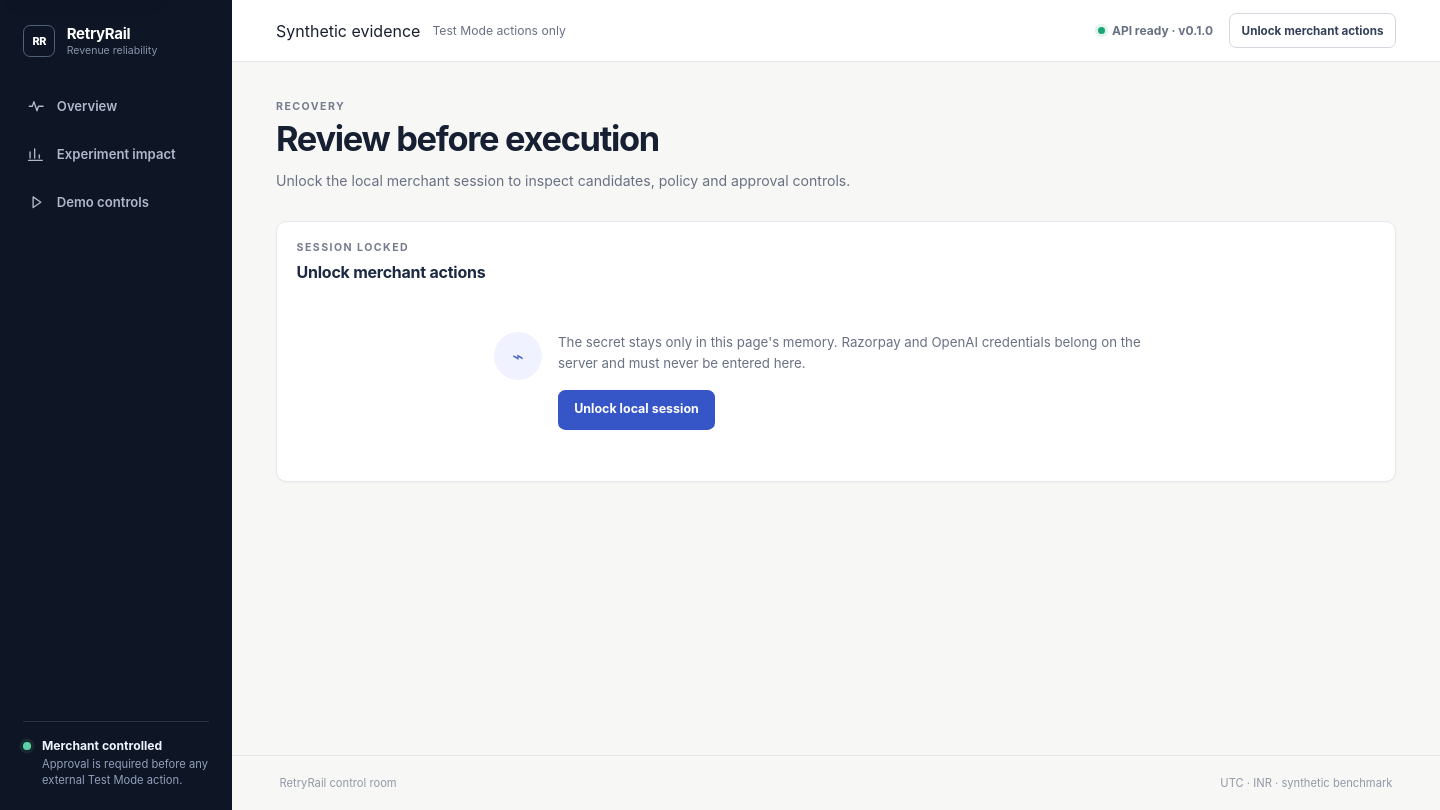
M7 merchant workflow › fails closed when authoritative policy denies a Razorpay Test Mode preview
The width and height of the screenshot is (1440, 810).
Check: the heading "Unlock merchant actions" is shown, box x1=296 y1=262 x2=486 y2=282
Click the button "Unlock merchant actions" at (1313, 30), box x1=1229 y1=13 x2=1396 y2=48
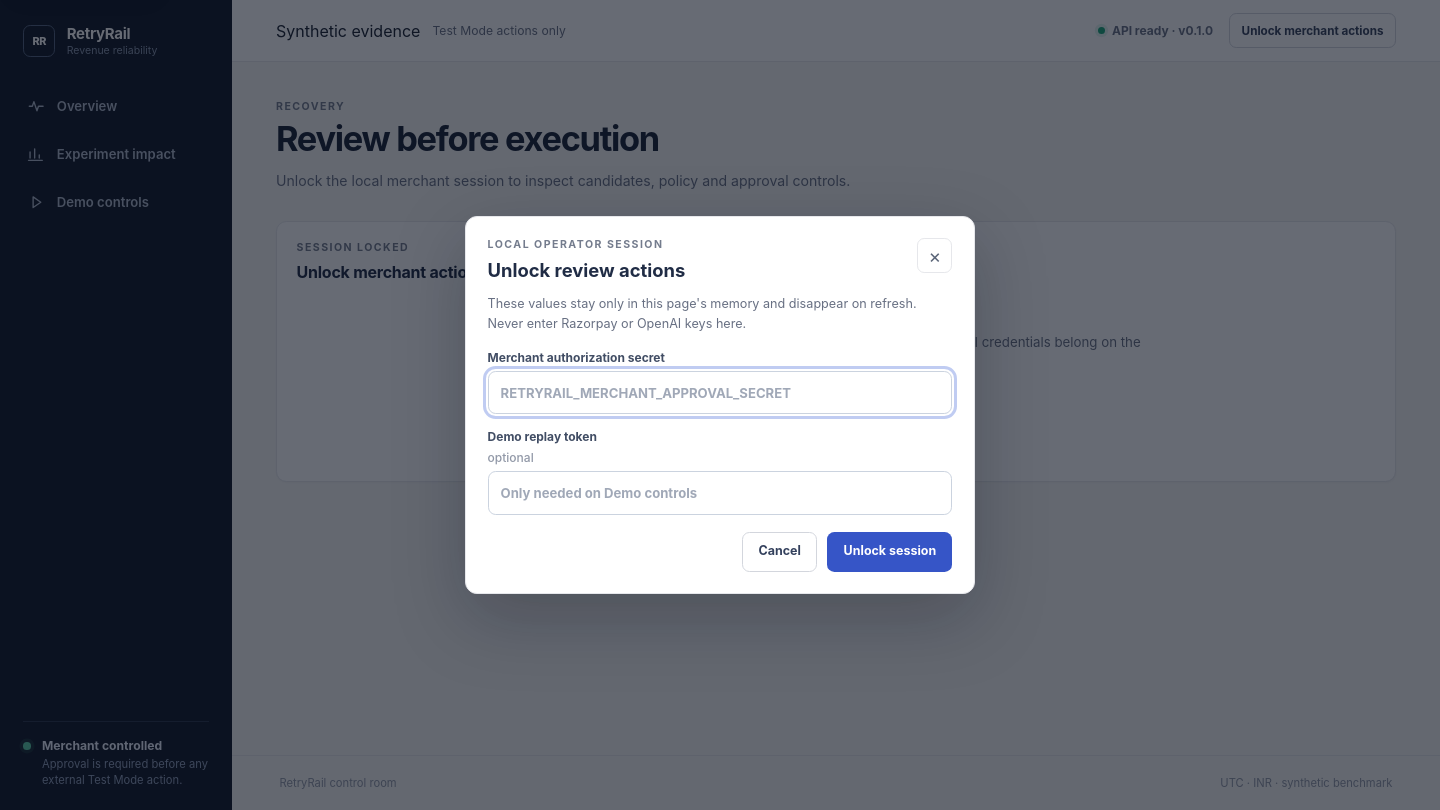
Type "merchant-secret-for-ui-test" into the password field labelled "Merchant authorization secret" at (720, 393), box x1=488 y1=371 x2=952 y2=414
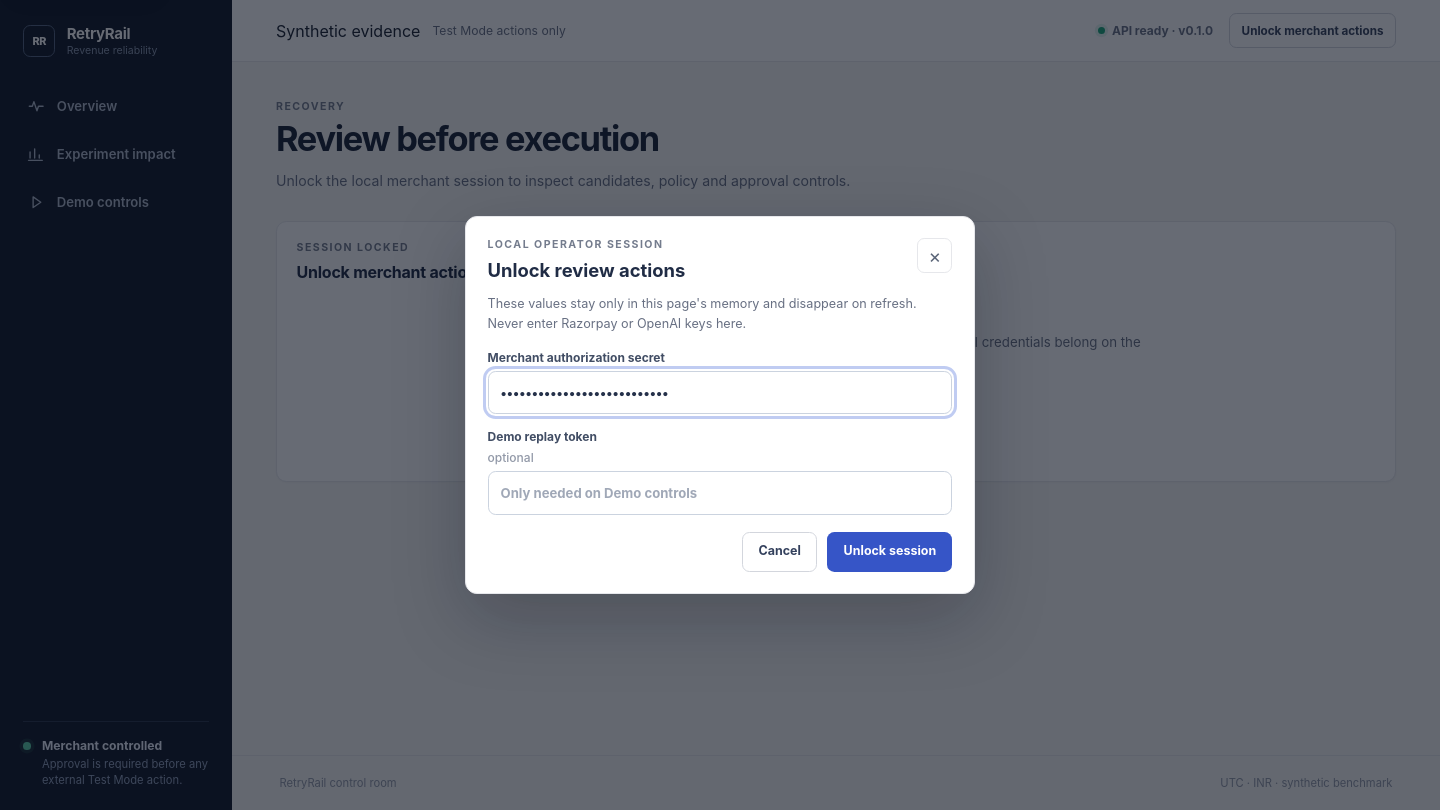
Type "replay-token-for-ui-test" into the password field labelled "Demo replay token optional" at (720, 493), box x1=488 y1=471 x2=952 y2=515
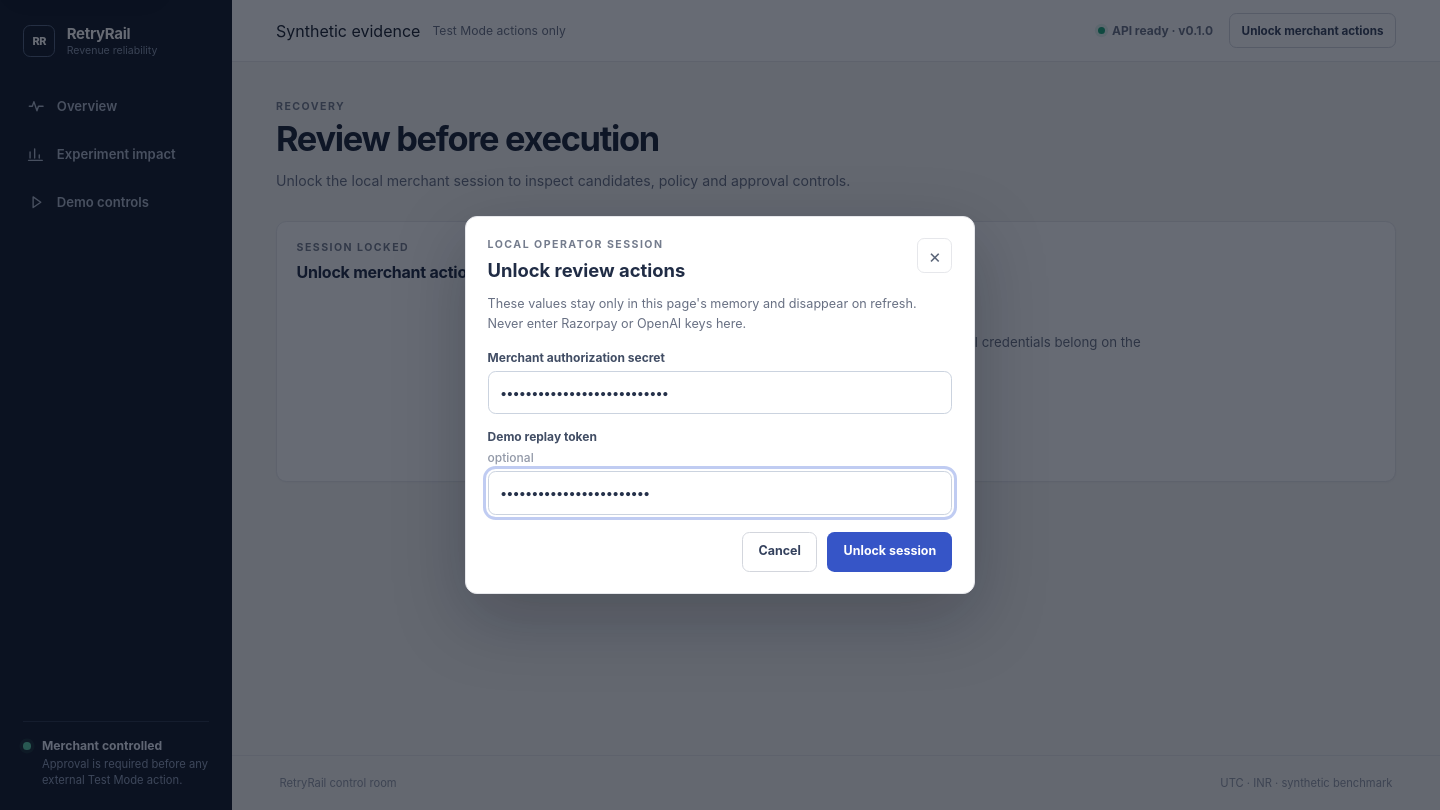
Click the button "Unlock session" at (890, 552), box x1=827 y1=532 x2=952 y2=572
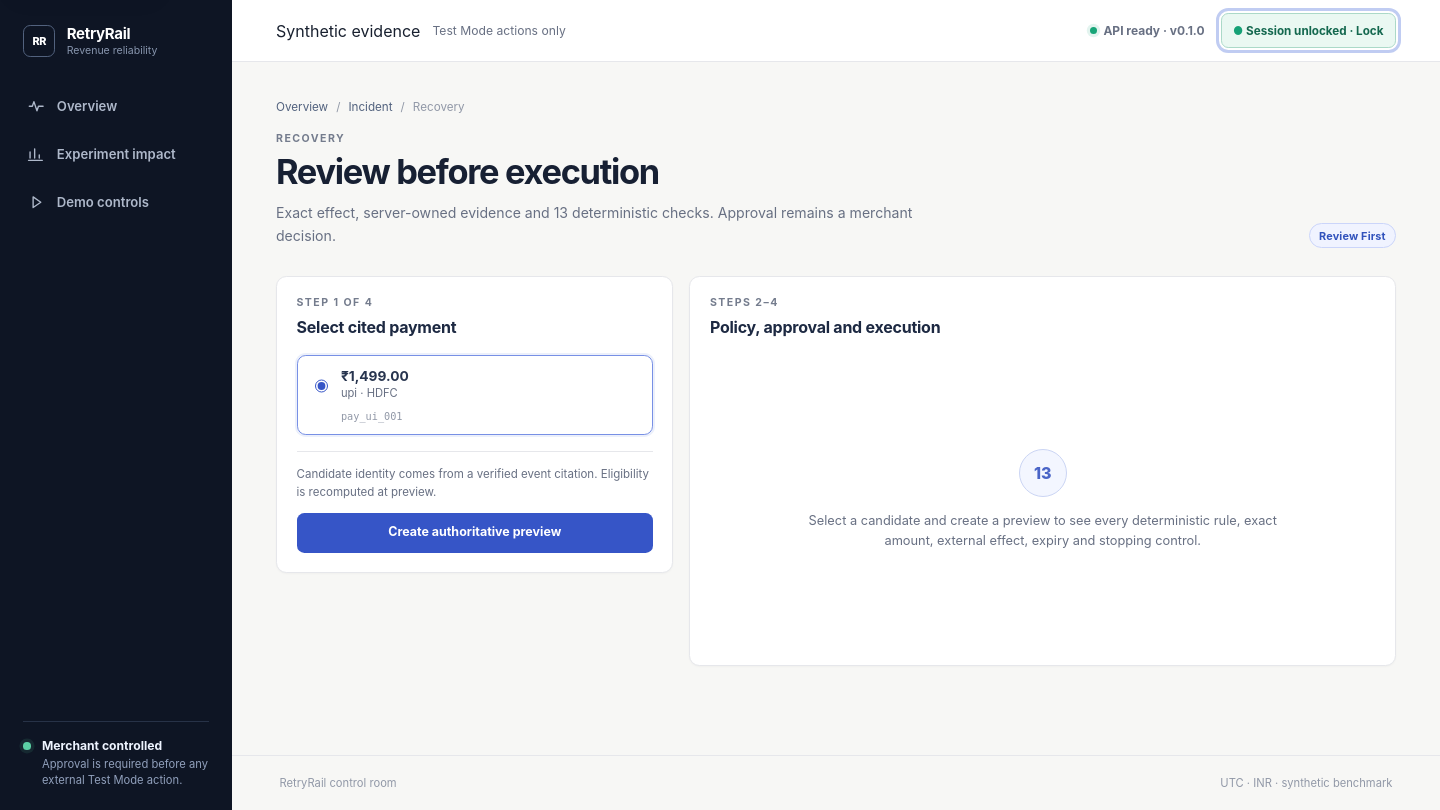
Check: the text "pay_ui_001" is shown, box x1=341 y1=410 x2=402 y2=422
Click the button "Create authoritative preview" at (475, 533), box x1=296 y1=513 x2=653 y2=553
(page scrolled)
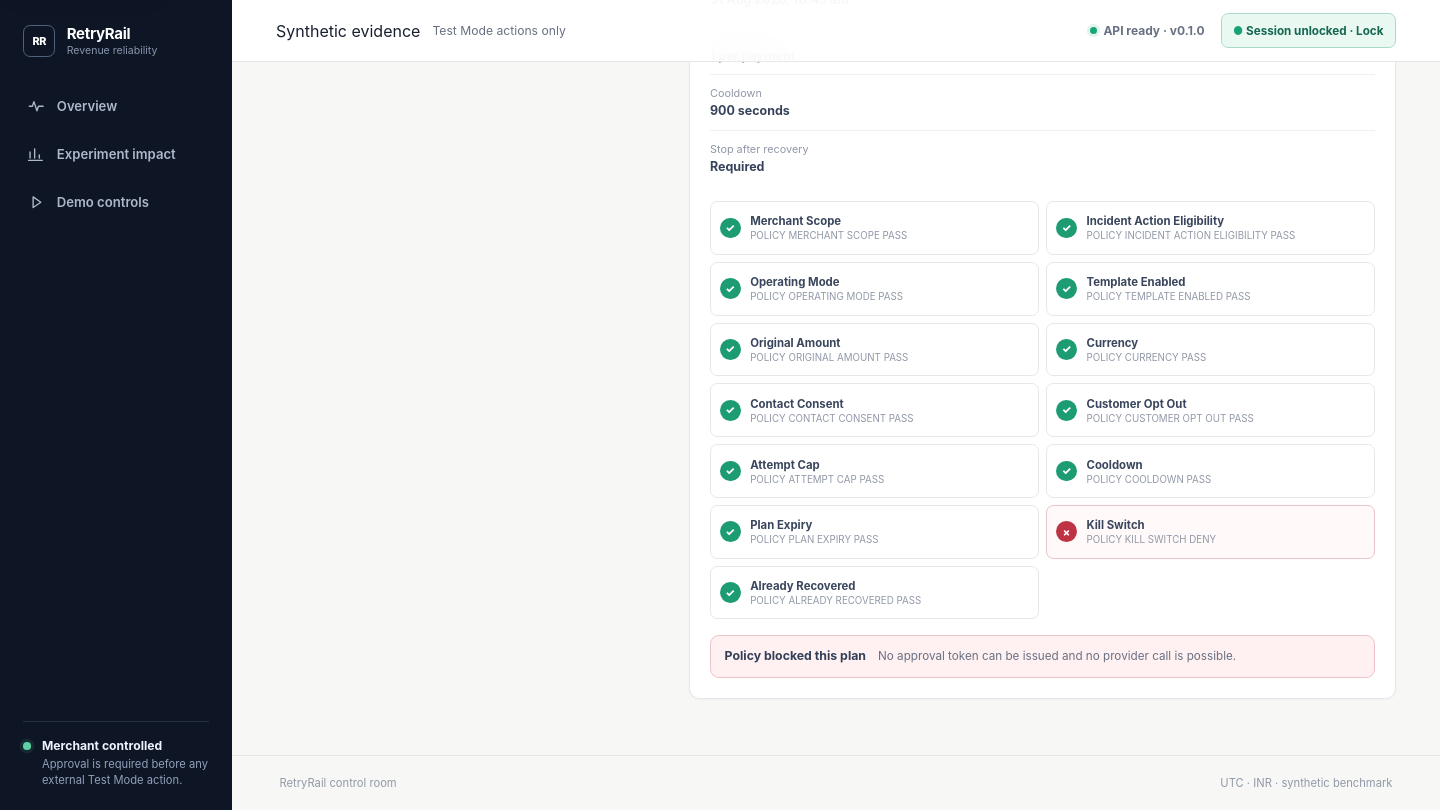
Check: the text "Policy blocked this plan" is shown, box x1=724 y1=648 x2=866 y2=663
Check: the text "POLICY KILL SWITCH DENY" is shown, box x1=1086 y1=534 x2=1216 y2=545
